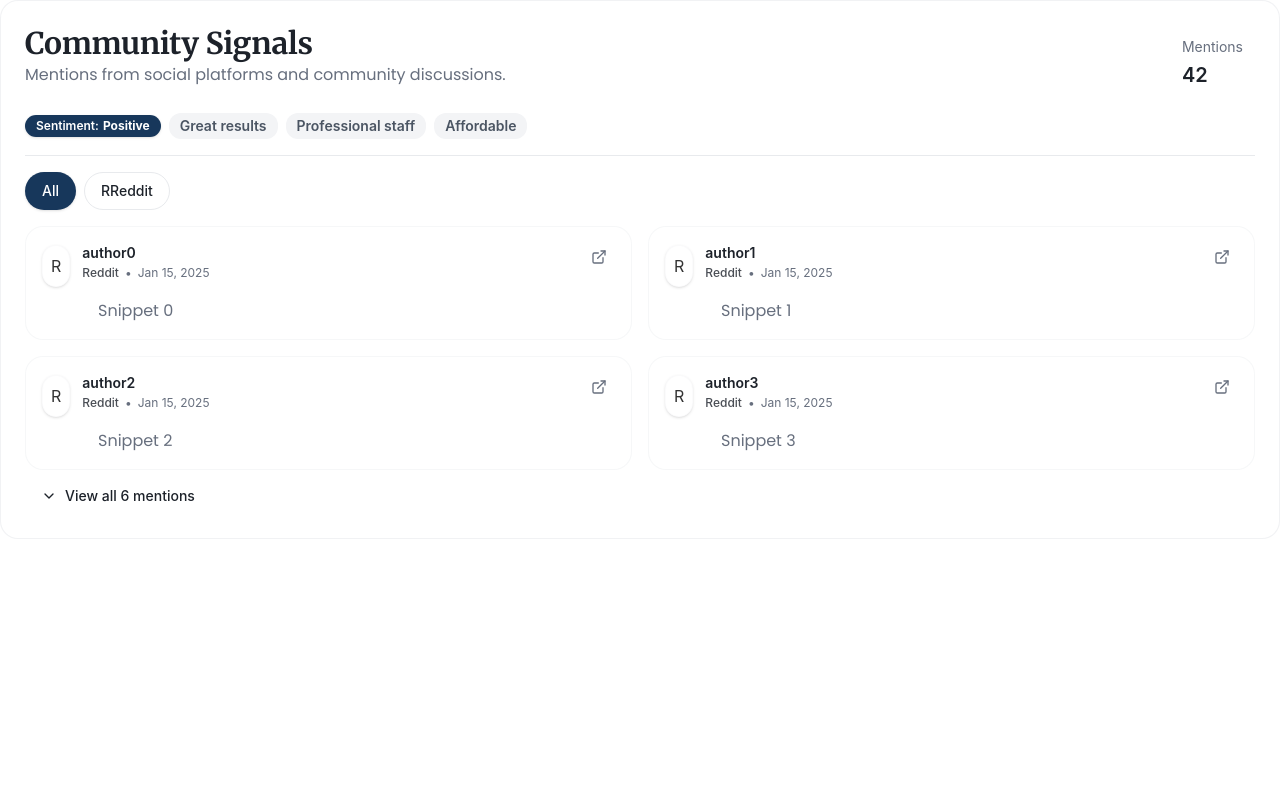
CommunitySignalsSection › expands to show all posts when expand button clicked
expect the text "author4" is not shown: met
# Click expand
Click the button "View all 6 mentions": (93, 496) [25,478,1255,514]
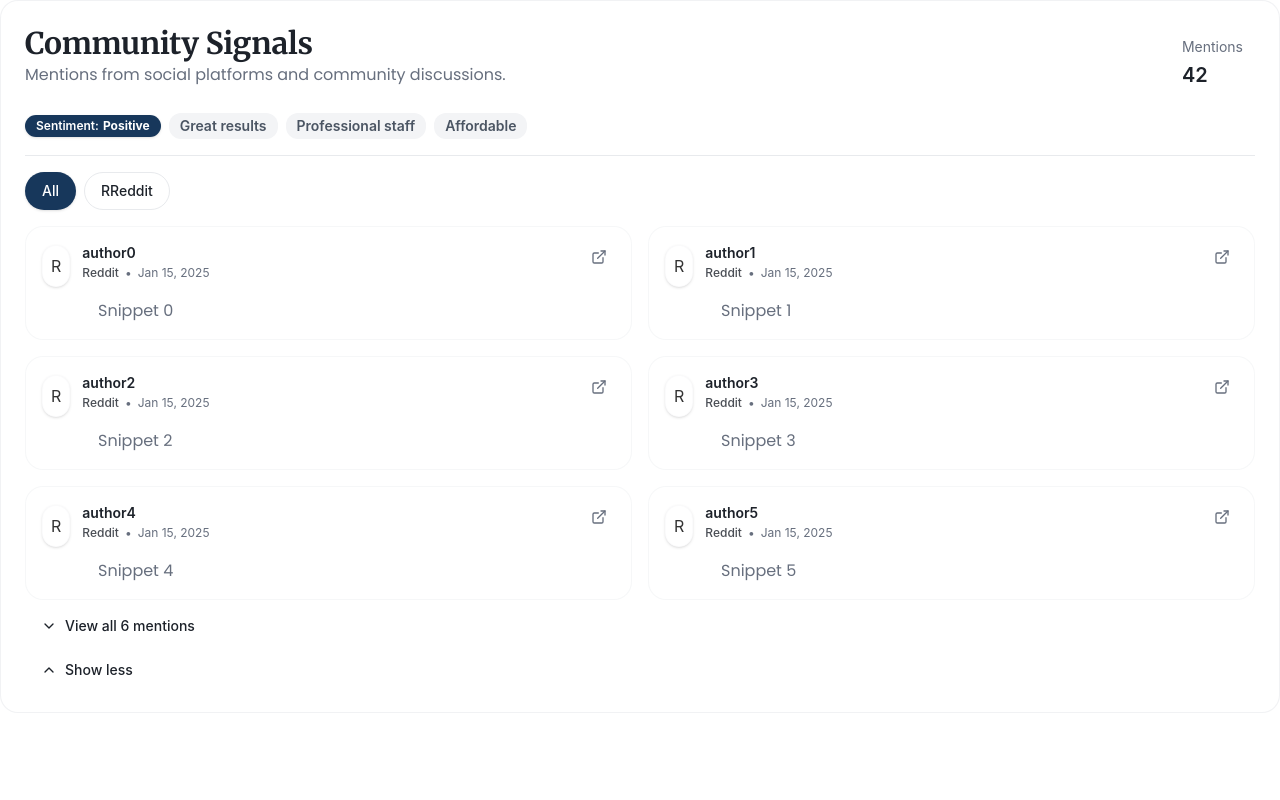
expect the text "author4" is shown: met, box [82,504,136,521]
expect the text "author5" is shown: met, box [705,504,758,521]
